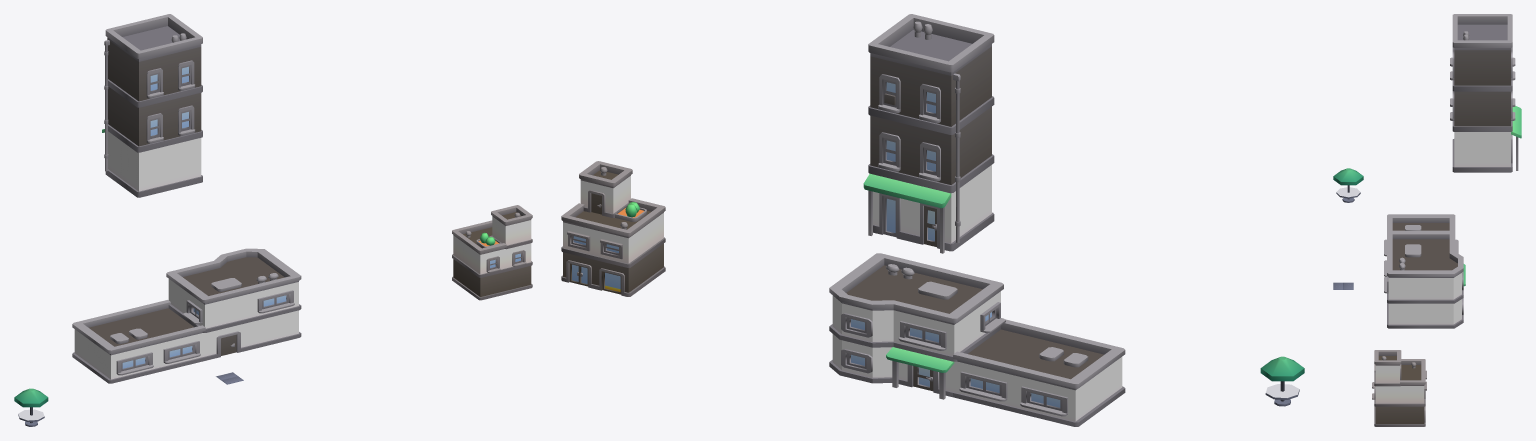
The model's file is wf02-civic-enclosure-shell.glb.
The picture shows the model from 3 angles, left to right: view 1: azimuth 30°, elevation 25°; view 2: azimuth 150°, elevation 25°; view 3: azimuth 270°, elevation 25°; orthographic projection. The views are drawn at different scales.
Parts seen in each view (by area): view 1: building-e, building-h, building-d, detail-parasol-a; view 2: building-e, building-h, building-d, detail-parasol-a; view 3: building-h, building-e, building-d, detail-parasol-a.
Boxes of the visible parts, x1,y1,x2,y2 form: building-e: (72,248,301,383); building-h: (102,14,202,197); building-d: (452,205,532,300); detail-parasol-a: (14,388,48,426); building-e: (829,253,1125,426); building-h: (863,14,994,253); building-d: (561,161,665,296); detail-parasol-a: (1260,356,1304,406); building-h: (1450,14,1521,172); building-e: (1384,214,1465,328); building-d: (1372,350,1426,426); detail-parasol-a: (1333,168,1363,202).
Bounding box in the file's own units: 10.81 × 5.64 × 3.71.
5 materials, 5 textured.
